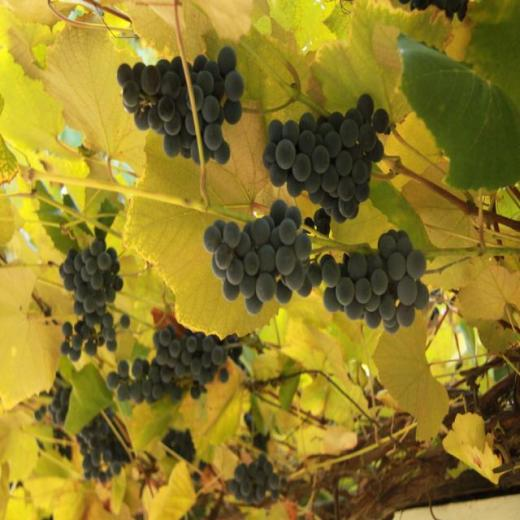Orange: (204, 202, 434, 329), (262, 91, 390, 222), (113, 48, 246, 165), (108, 327, 243, 407), (63, 233, 131, 361), (79, 412, 130, 482), (225, 452, 289, 504), (34, 384, 72, 456), (160, 432, 197, 466)
